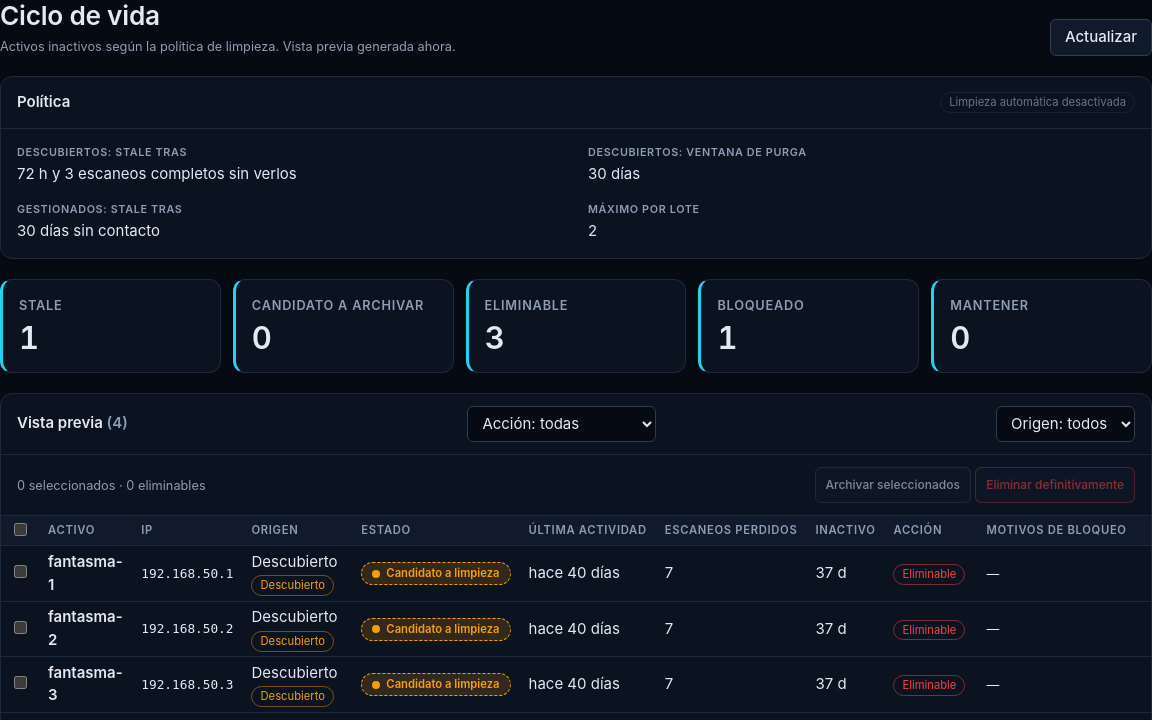
Test: LifecyclePage › hard deletes only eligible rows, never more than the batch size, after listing them
Expected: the link "fantasma-1" is shown, x1=48 y1=552 x2=123 y2=594
Note: Lote de 2: la tercera casilla queda deshabilitada.
Click the checkbox named "Seleccionar fantasma-1".
click(20, 572)  # box x1=14 y1=565 x2=27 y2=578
(page scrolled)
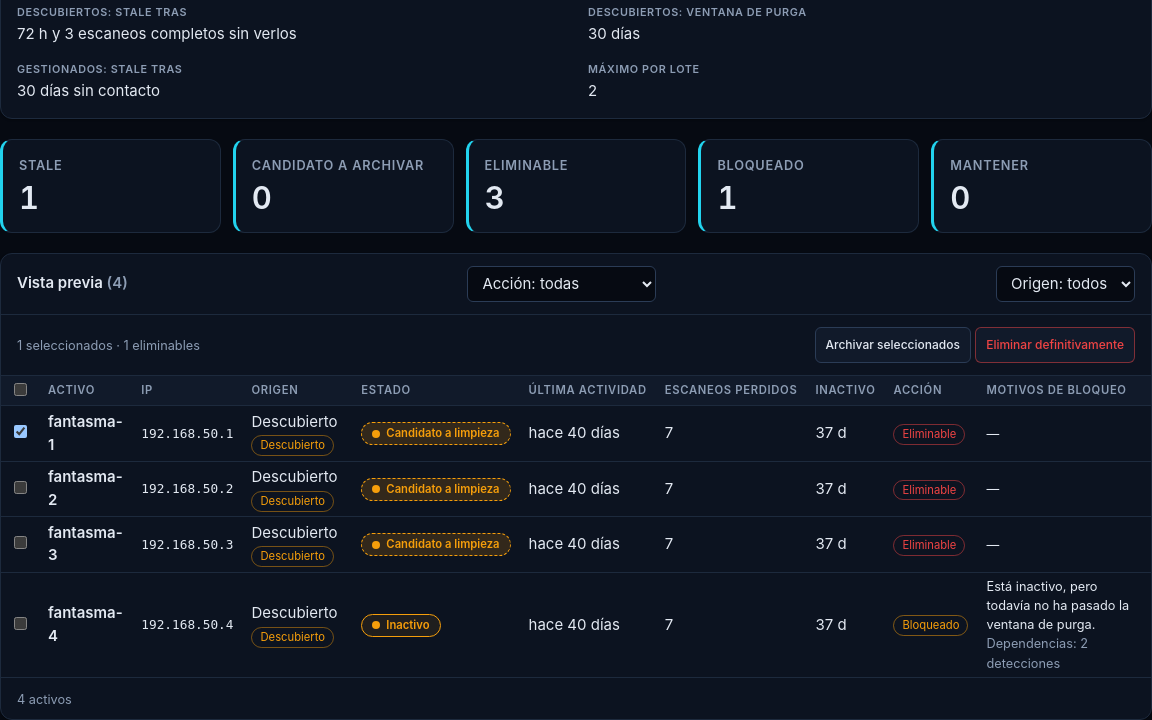
Click the checkbox named "Seleccionar fantasma-4".
click(20, 623)  # box x1=14 y1=617 x2=27 y2=630
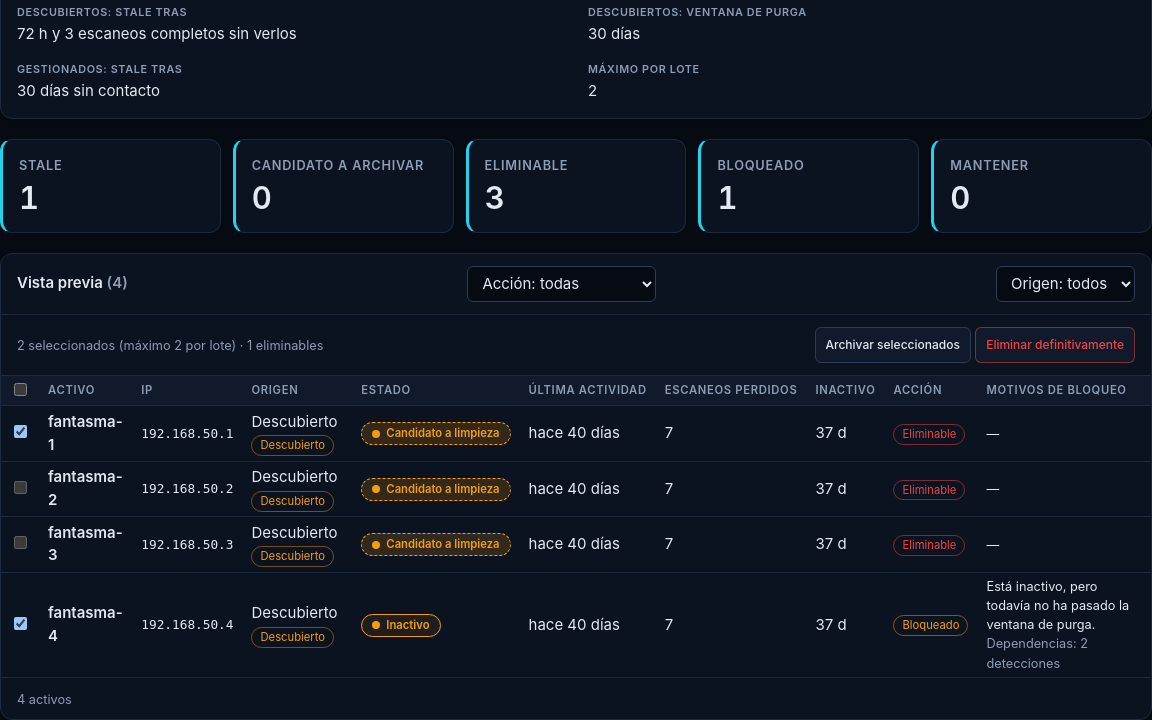
Expected: the checkbox named "Seleccionar fantasma-2" is disabled, x1=14 y1=481 x2=27 y2=494
Click the button "Eliminar definitivamente".
click(1055, 344)  # box x1=975 y1=326 x2=1135 y2=362
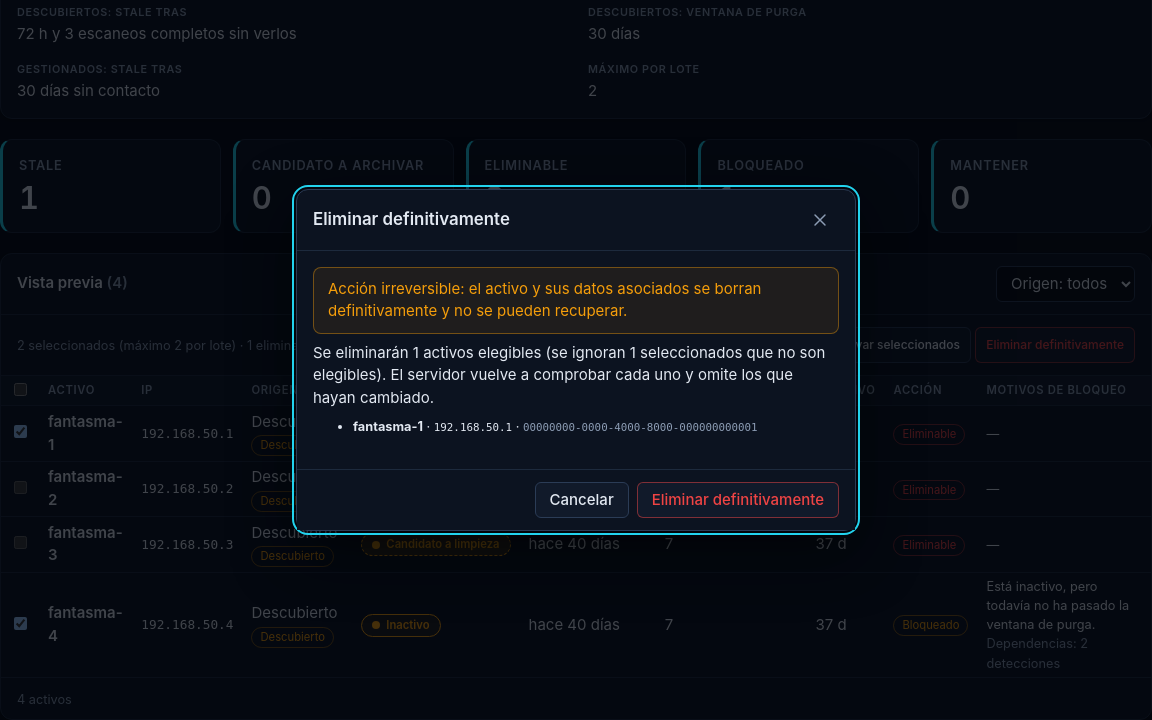
Expected: the dialog "Eliminar definitivamente" shows "Acción irreversible: el activo y sus datos asociados se borran definitivamente y no se pueden recuperar.", x1=328 y1=279 x2=762 y2=320
Expected: the list named "Activos a eliminar" shows "fantasma-1", x1=353 y1=419 x2=423 y2=434
Expected: the list named "Activos a eliminar" shows "192.168.50.1", x1=434 y1=421 x2=512 y2=434
Click the button "Eliminar definitivamente".
click(738, 500)  # box x1=637 y1=482 x2=839 y2=518
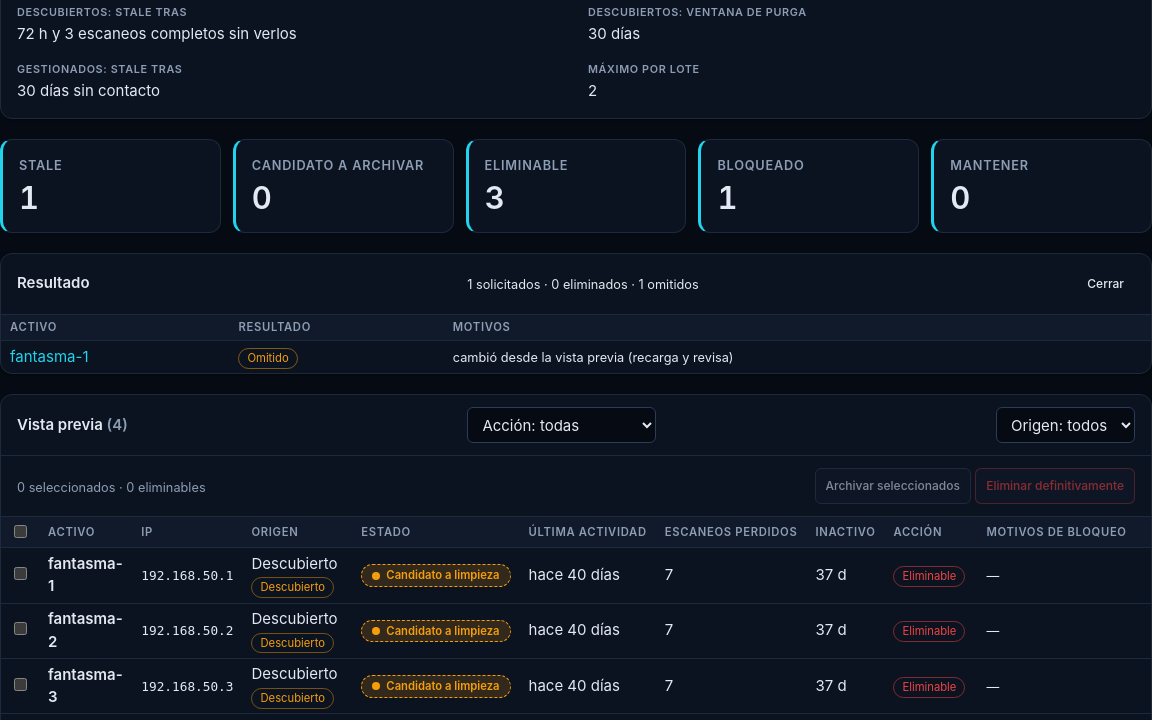
Expected: the element named "Resultado de la limpieza" shows "1 omitidos", x1=0 y1=252 x2=1151 y2=374
Expected: the element named "Resultado de la limpieza" shows "cambió desde la vista previa", x1=453 y1=350 x2=734 y2=365
